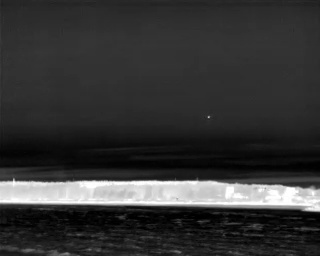HELICOPTER: (205, 113, 213, 122)
